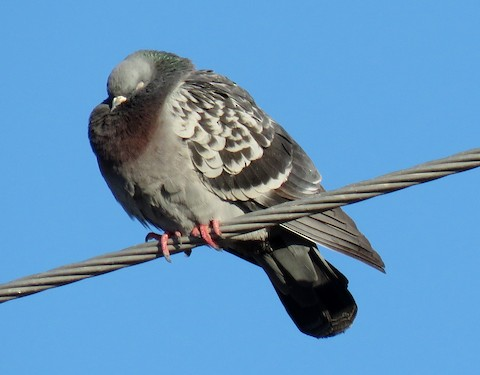pigeon: (85, 46, 388, 342)
